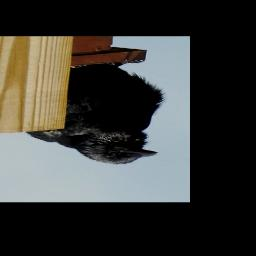Crow: (28, 60, 168, 165)
